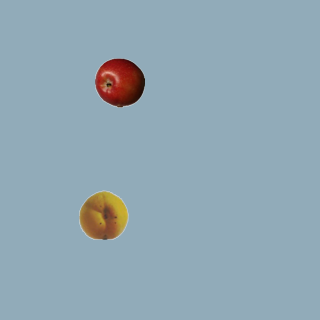Apple Braeburn: (94, 57, 144, 107)
Peach 2: (78, 189, 128, 239)
